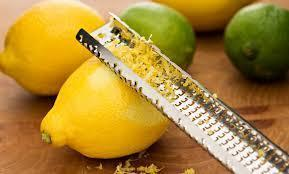lemon: (39, 52, 172, 158), (0, 0, 107, 95), (151, 0, 257, 31)
